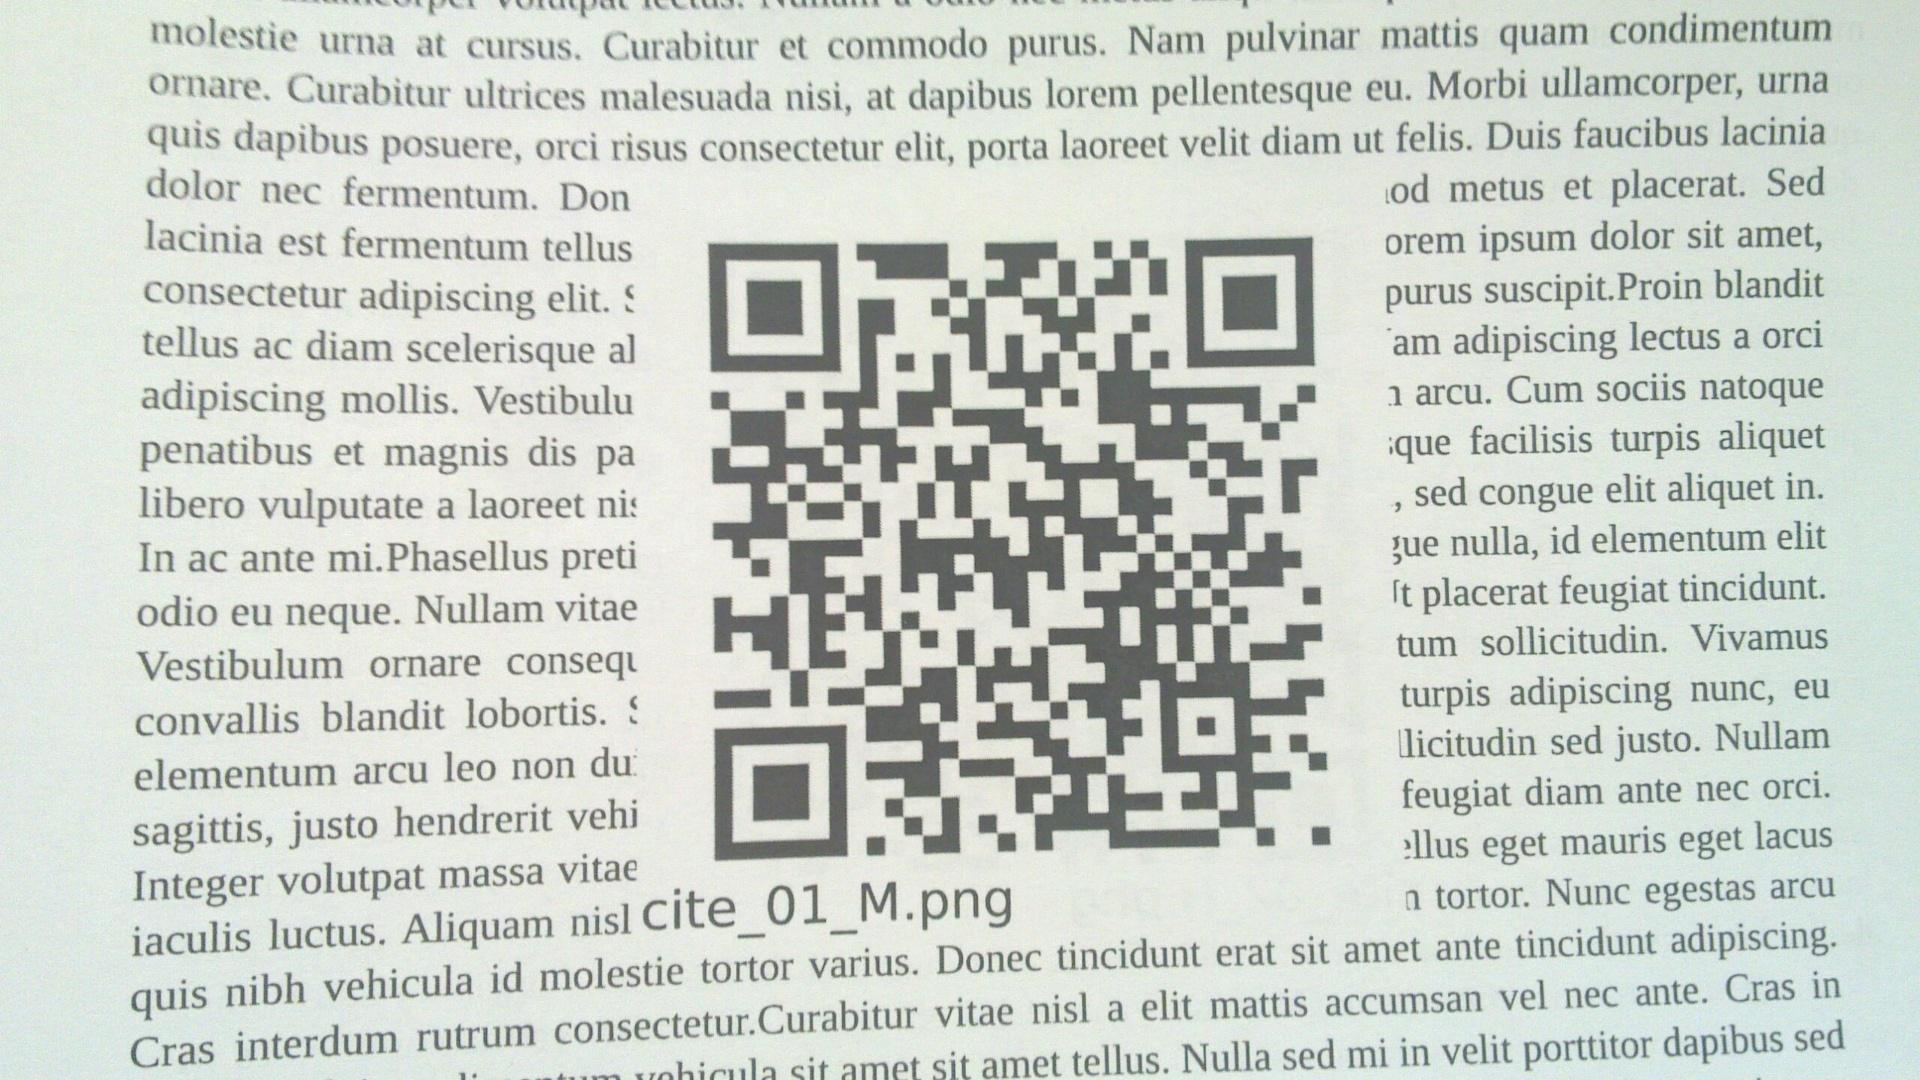Finder pattern: (707, 721, 853, 862), (704, 236, 847, 376), (1180, 233, 1320, 369)
